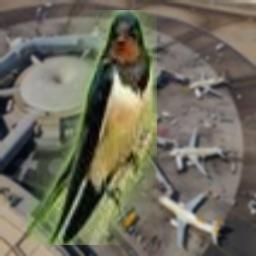Swallow: (27, 10, 157, 245)
